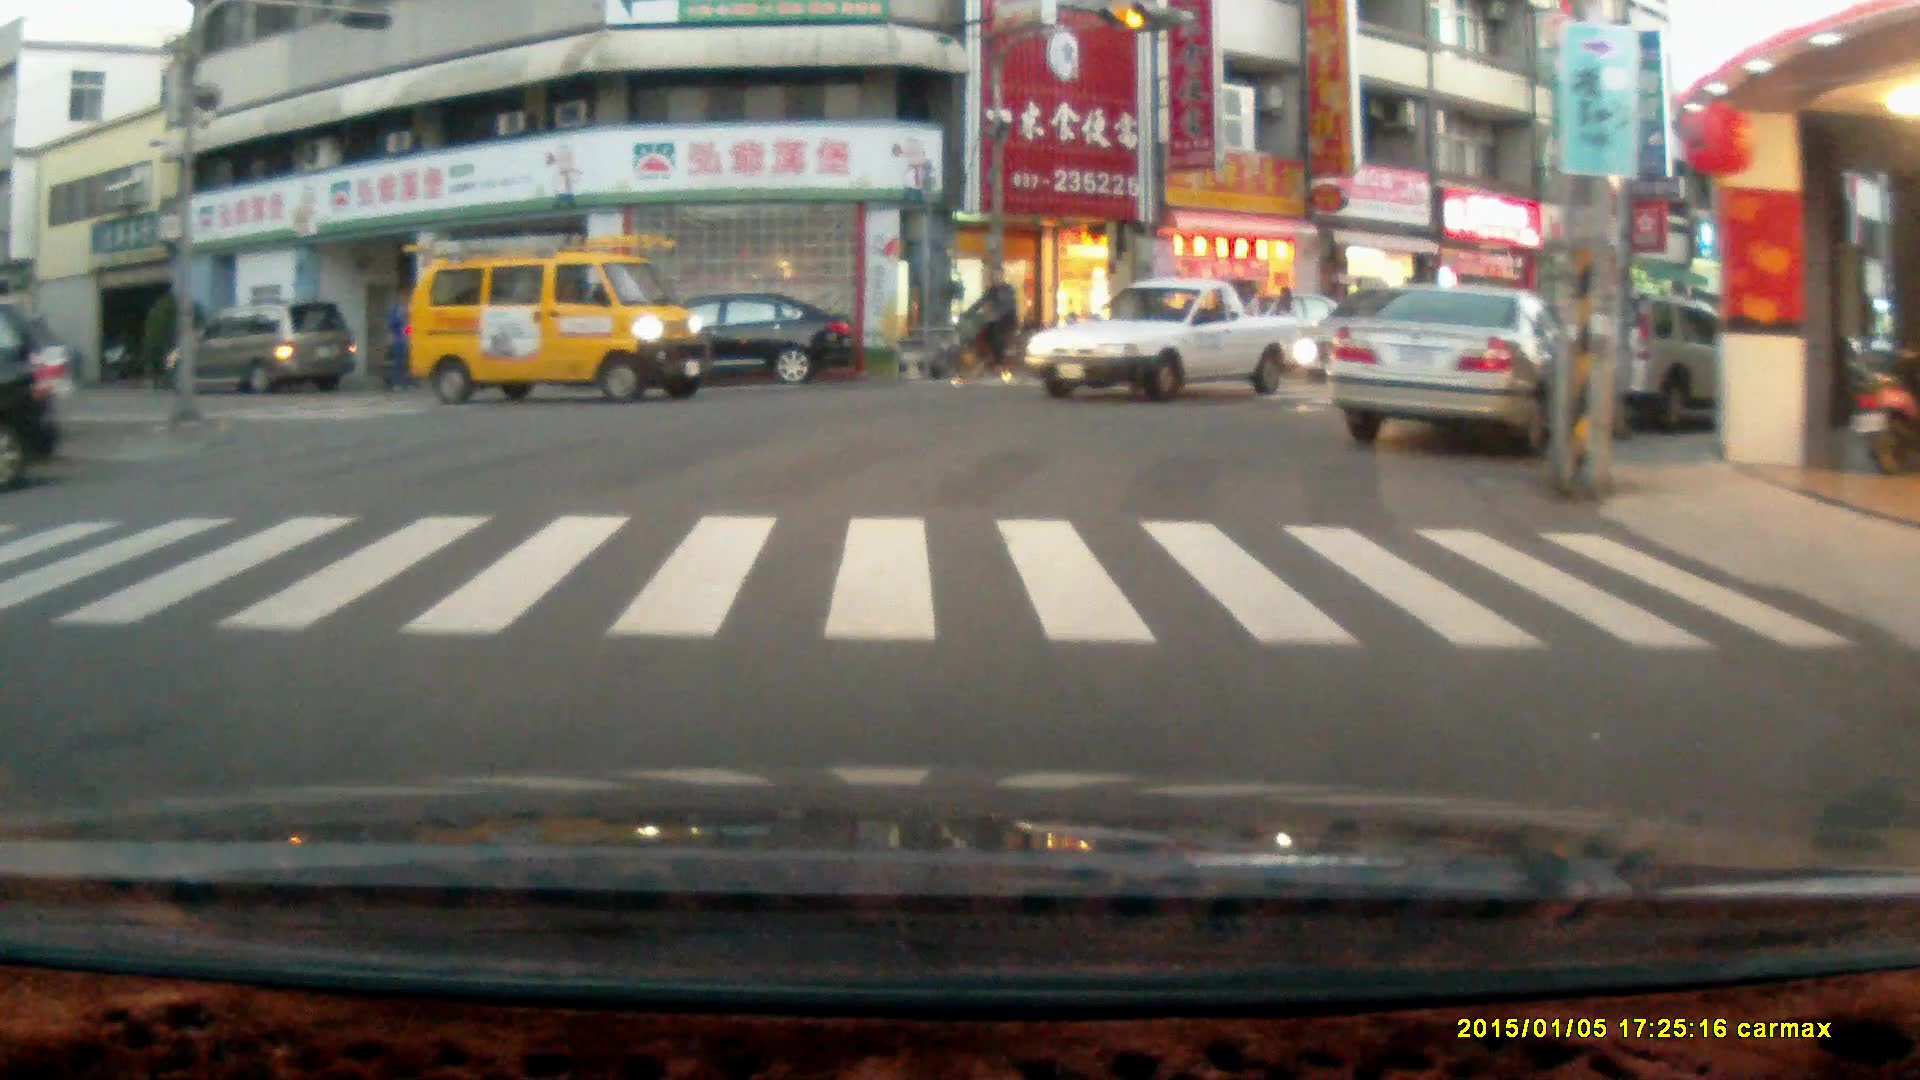pedestrian: (388, 285, 418, 385)
rider: (939, 260, 1030, 388)
vehicle: (407, 233, 708, 408), (1328, 284, 1577, 461), (1021, 272, 1310, 412), (1526, 287, 1779, 441), (610, 297, 856, 391), (163, 299, 359, 401), (6, 310, 63, 476)
